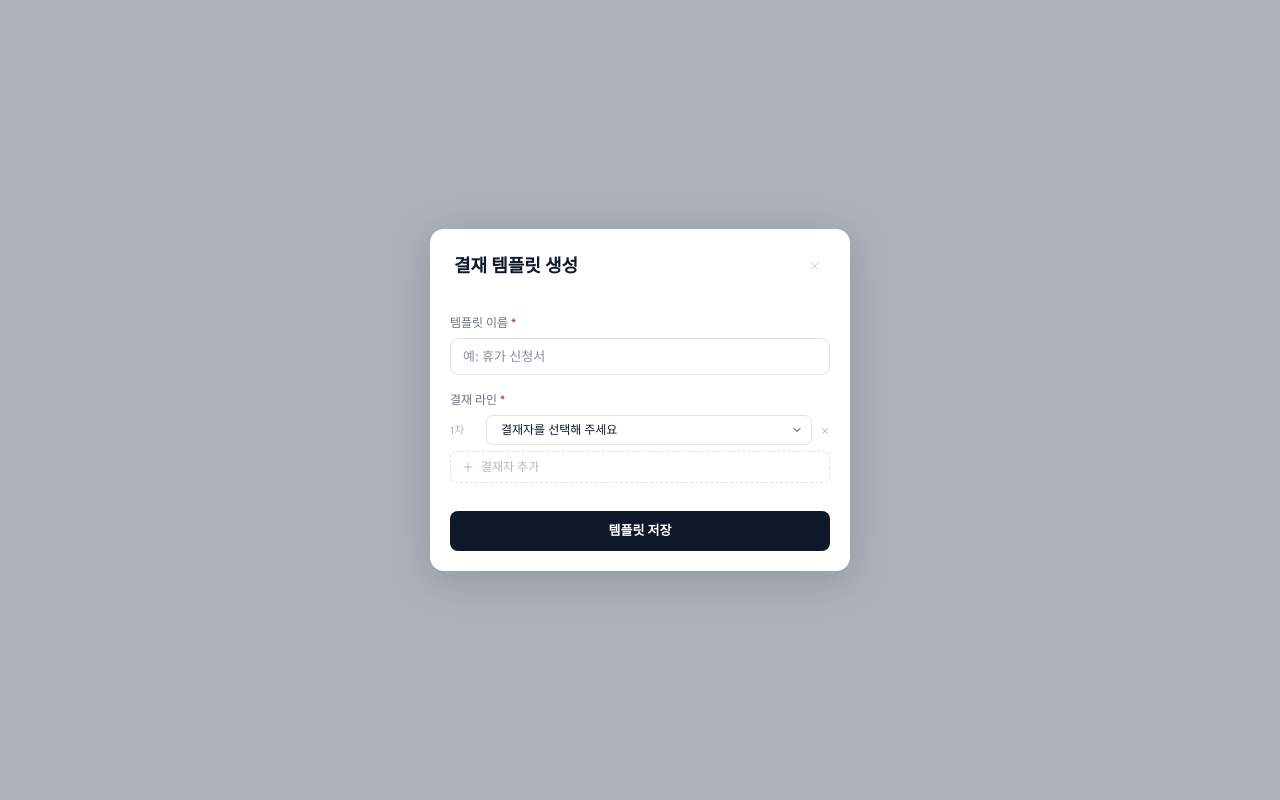
Scenario: CreateApprovalTemplateModal › 생성이 실패하면 오류 메시지를 표시하고 모달을 유지한다
Type "휴가 신청서" into the field labelled "템플릿 이름 *" at {"x": 640, "y": 356}, box [450, 338, 830, 375]
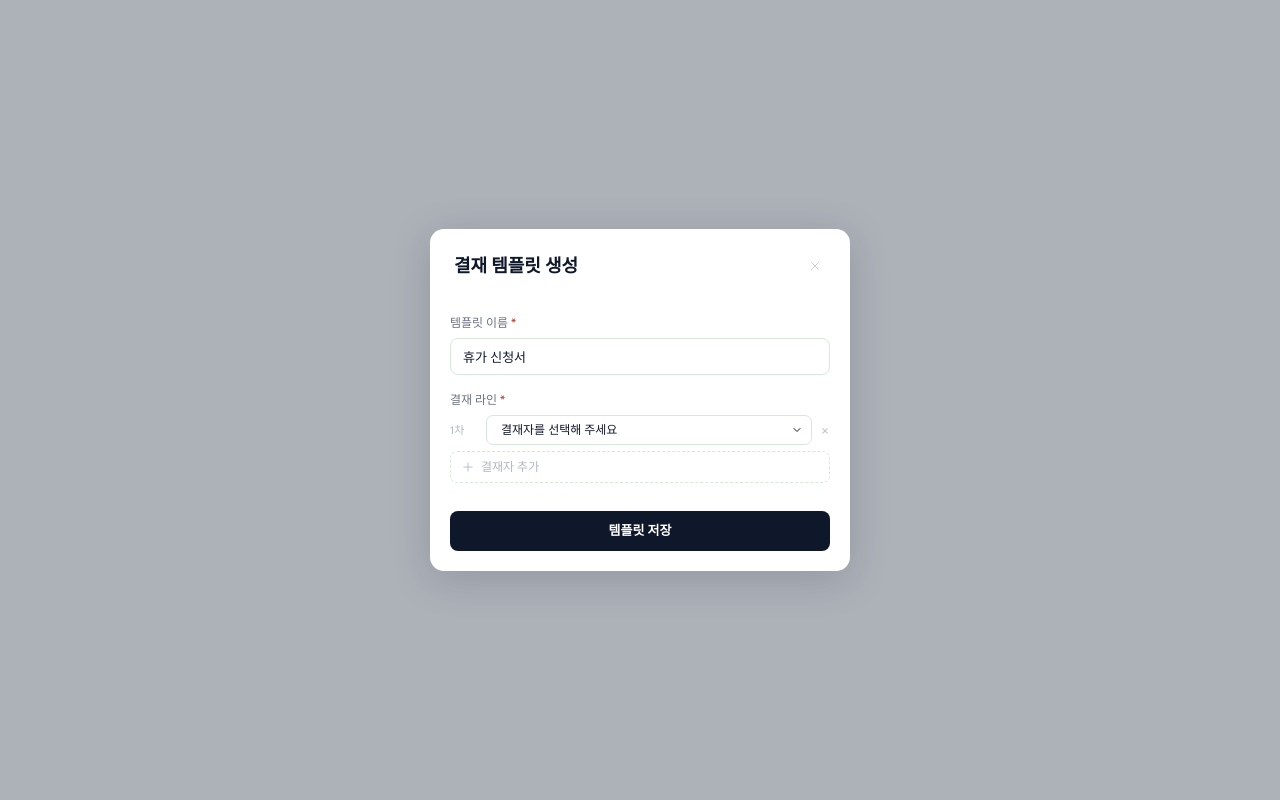
Submit the form "템플릿 저장", box [430, 229, 850, 571]
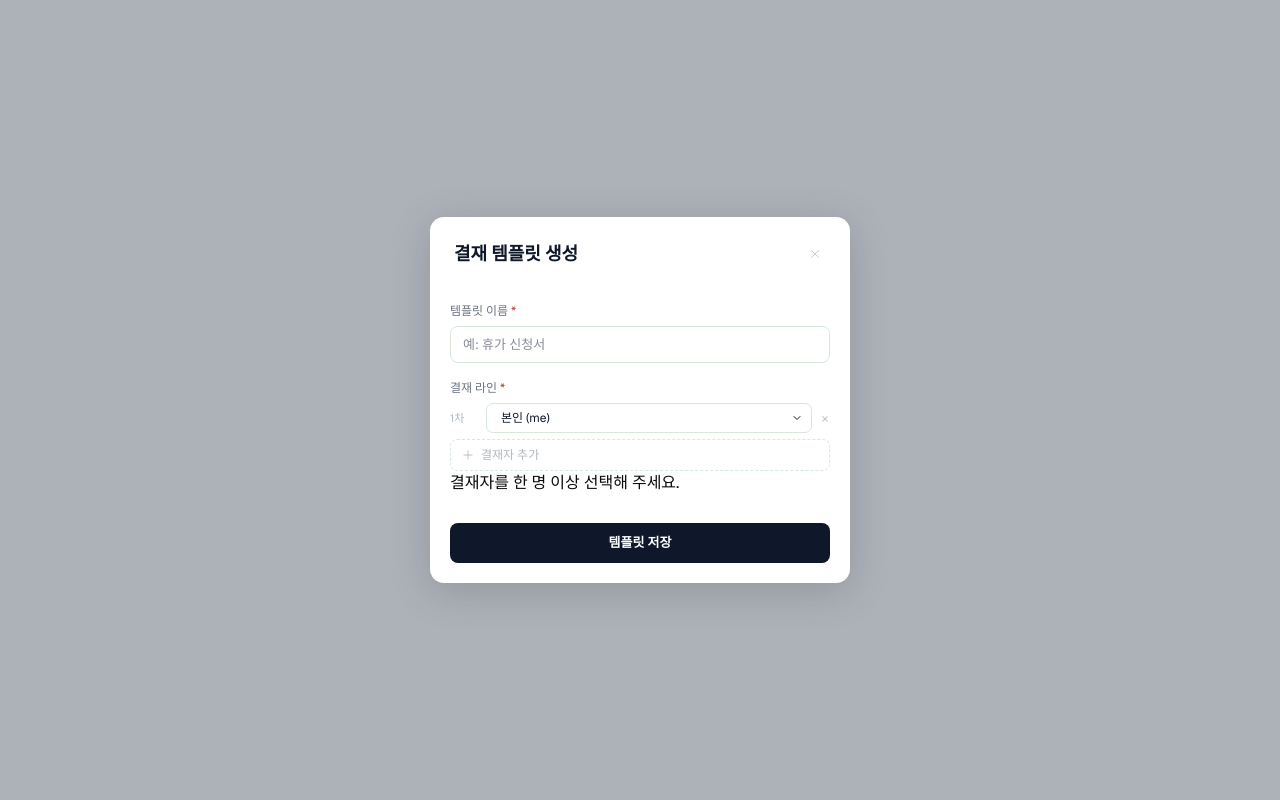
Now the text "결재자를 한 명 이상 선택해 주세요." is shown, box [450, 472, 679, 493]
